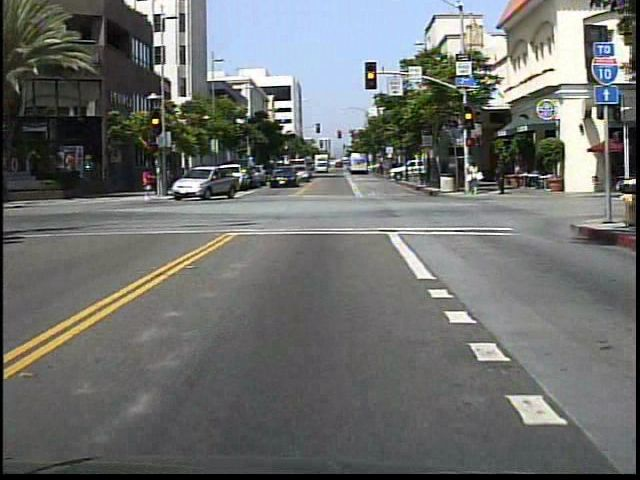person: (464, 158, 485, 198), (494, 158, 509, 198), (141, 167, 159, 198)
